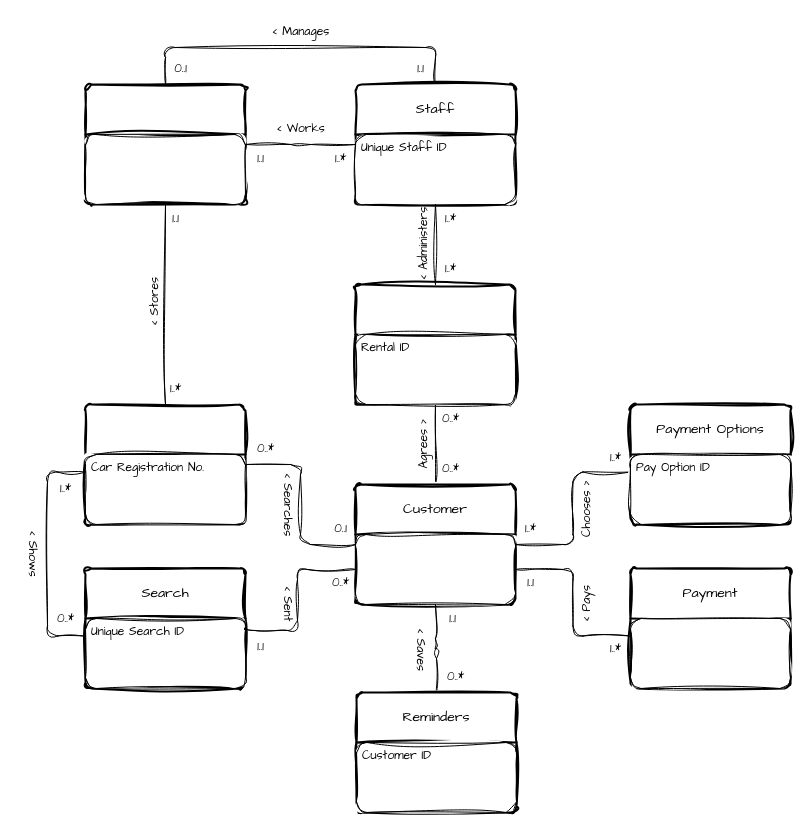
Some shapes in this 808 by 830 pixel diagram are drawn without their labels. The shapes that lost their labels are listed below. From the top down, each one's box as (x1, y1, x2, y2) in pixels, then its label:
(84, 83, 246, 205): Branch
(84, 134, 246, 204): Unique ID
(354, 283, 516, 405): Rental Agreement
(84, 403, 246, 525): Car Details
(354, 534, 516, 604): Unique Customer ID
(630, 618, 790, 688): Payment ID
